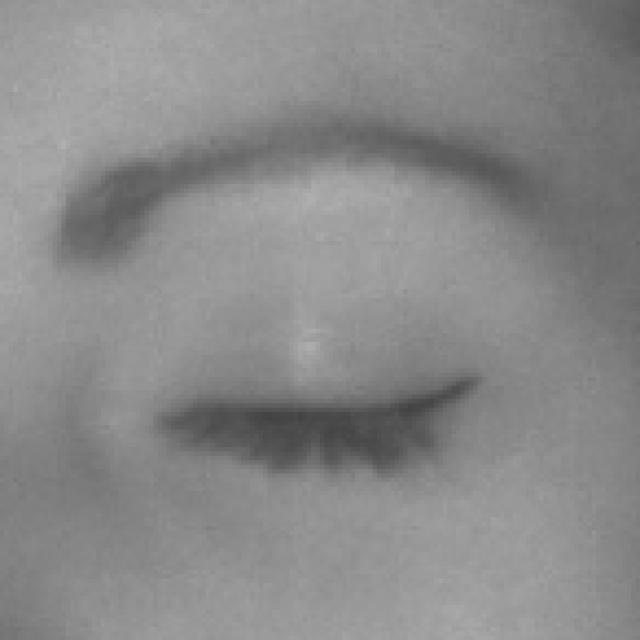Eyeclosed: (161, 258, 479, 617)
